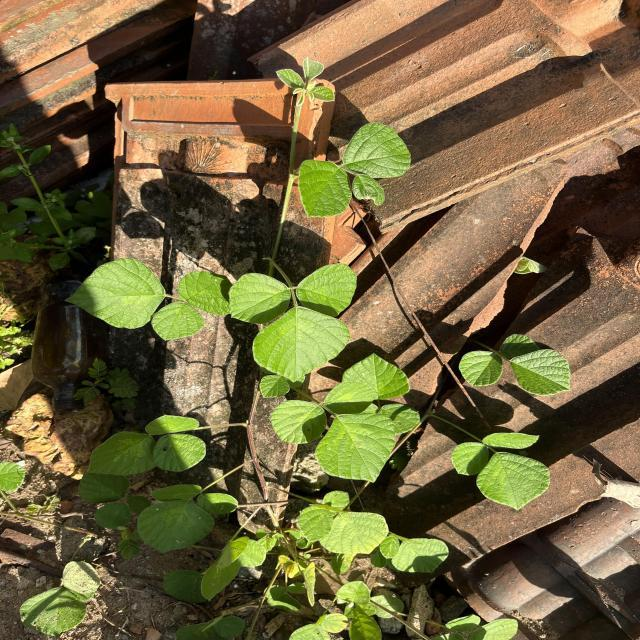Pseudarthria viscida: (227, 262, 358, 384), (63, 256, 232, 341), (270, 379, 396, 484), (451, 432, 552, 512), (86, 413, 208, 477), (136, 483, 240, 554), (458, 333, 572, 396)
